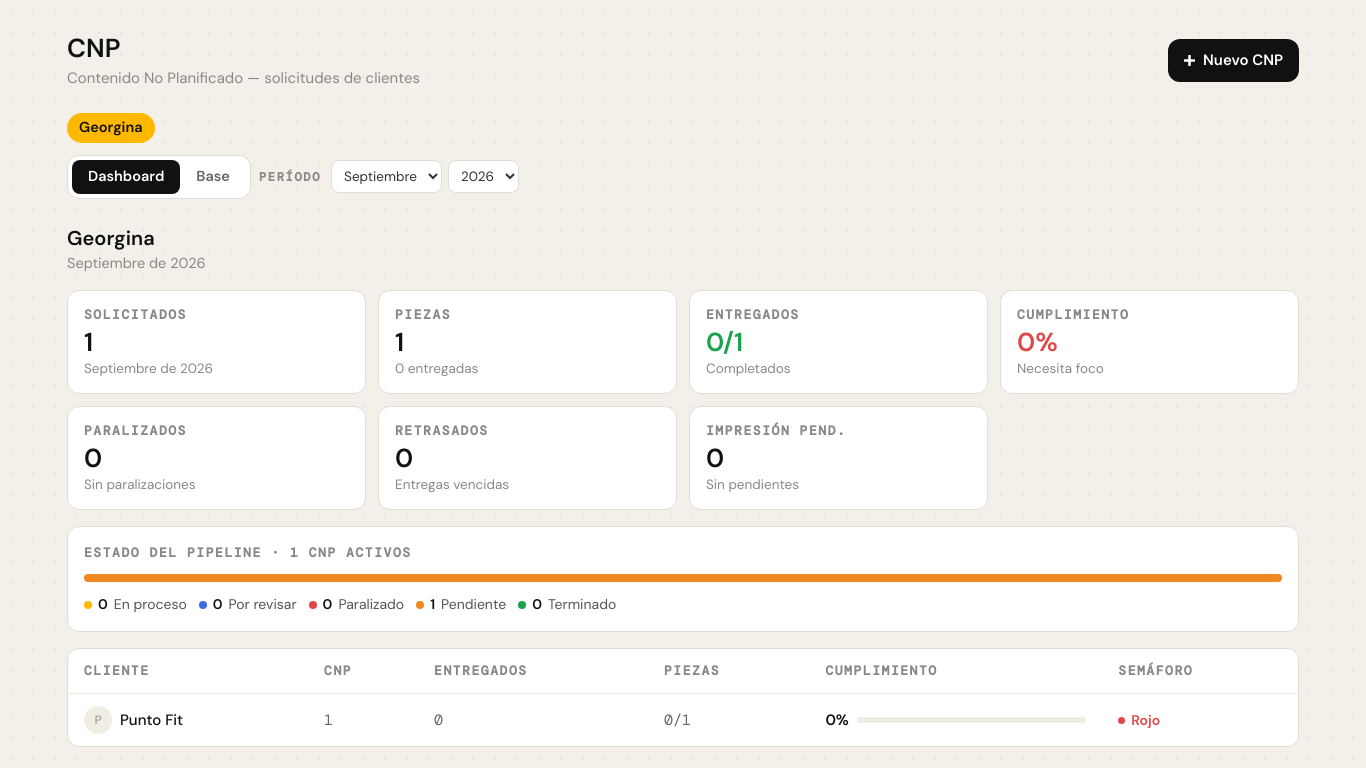
Test: CnpPage › clicking the "Paralizados" KPI navigates to Base with that status filter applied
The image size is (1366, 768).
Click the button "Paralizados 0 Sin paralizaciones" at (135, 430), box [67,406,366,510]
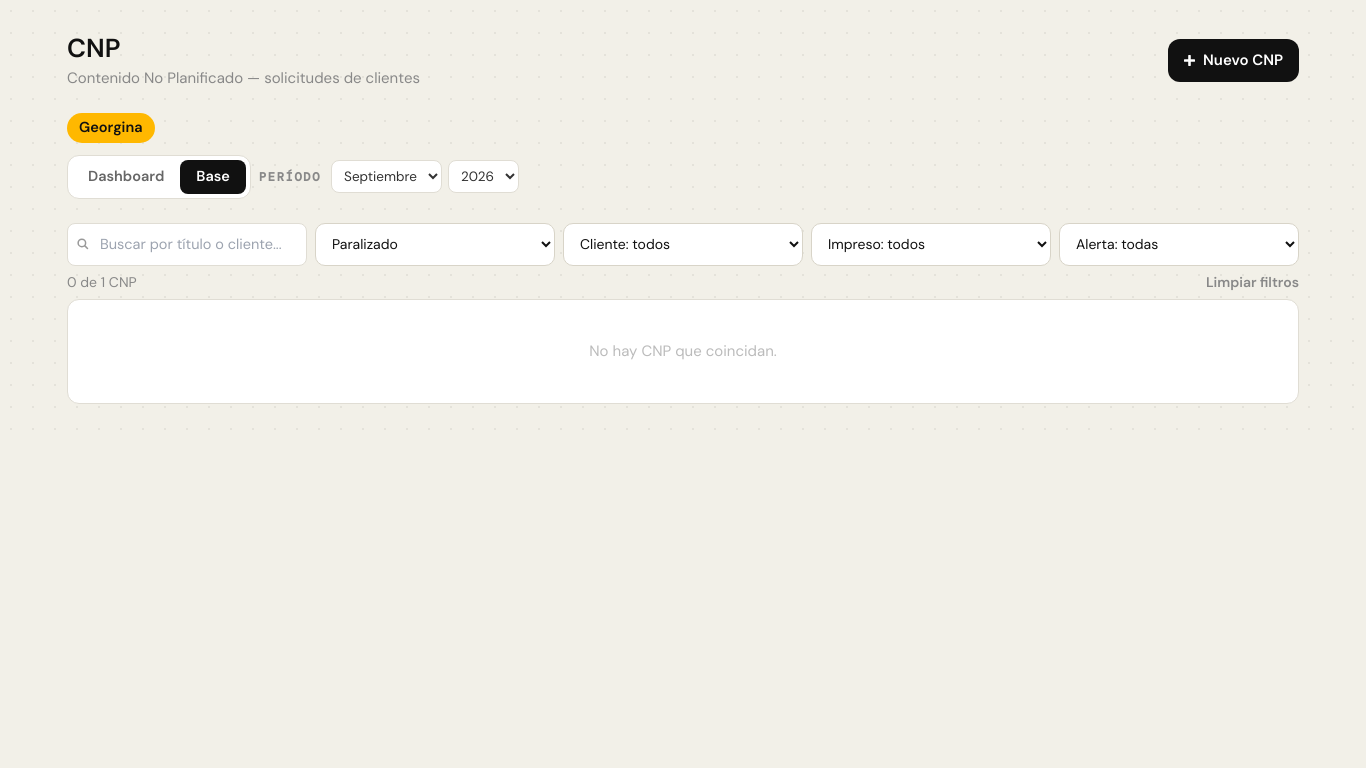
Now the 3rd dropdown showing "Paralizado" is shown, box [315,222,555,266]
Now the text "No hay CNP que coincidan." is shown, box [589,341,777,361]
